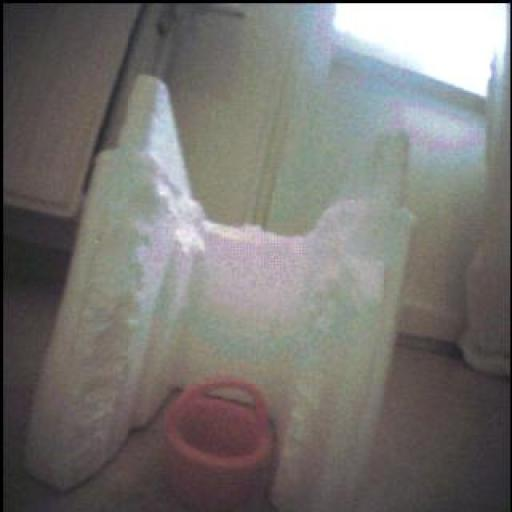Basket: (168, 380, 275, 512)
